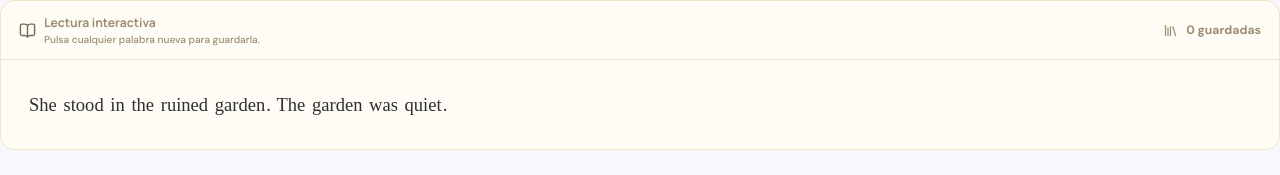
it: ReadingPassage › permite seleccionar y guardar una palabra nueva
Click the 1st button "garden": point(240, 105) [214, 84, 266, 125]
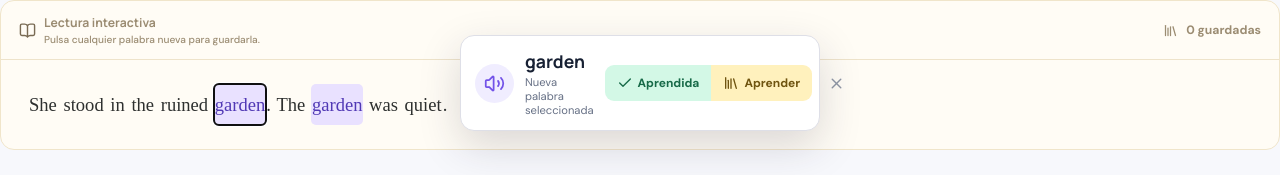
Check: the text "Nueva palabra seleccionada" is shown, box [525, 75, 594, 117]
Click the button "Aprender": point(762, 83) [711, 65, 812, 101]
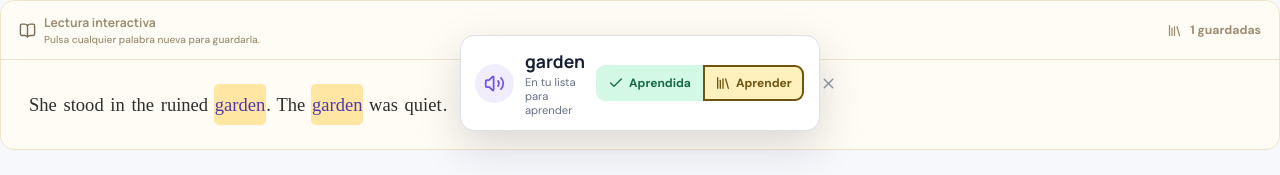
Check: the text "1 guardadas" is shown, box [1167, 22, 1261, 38]
